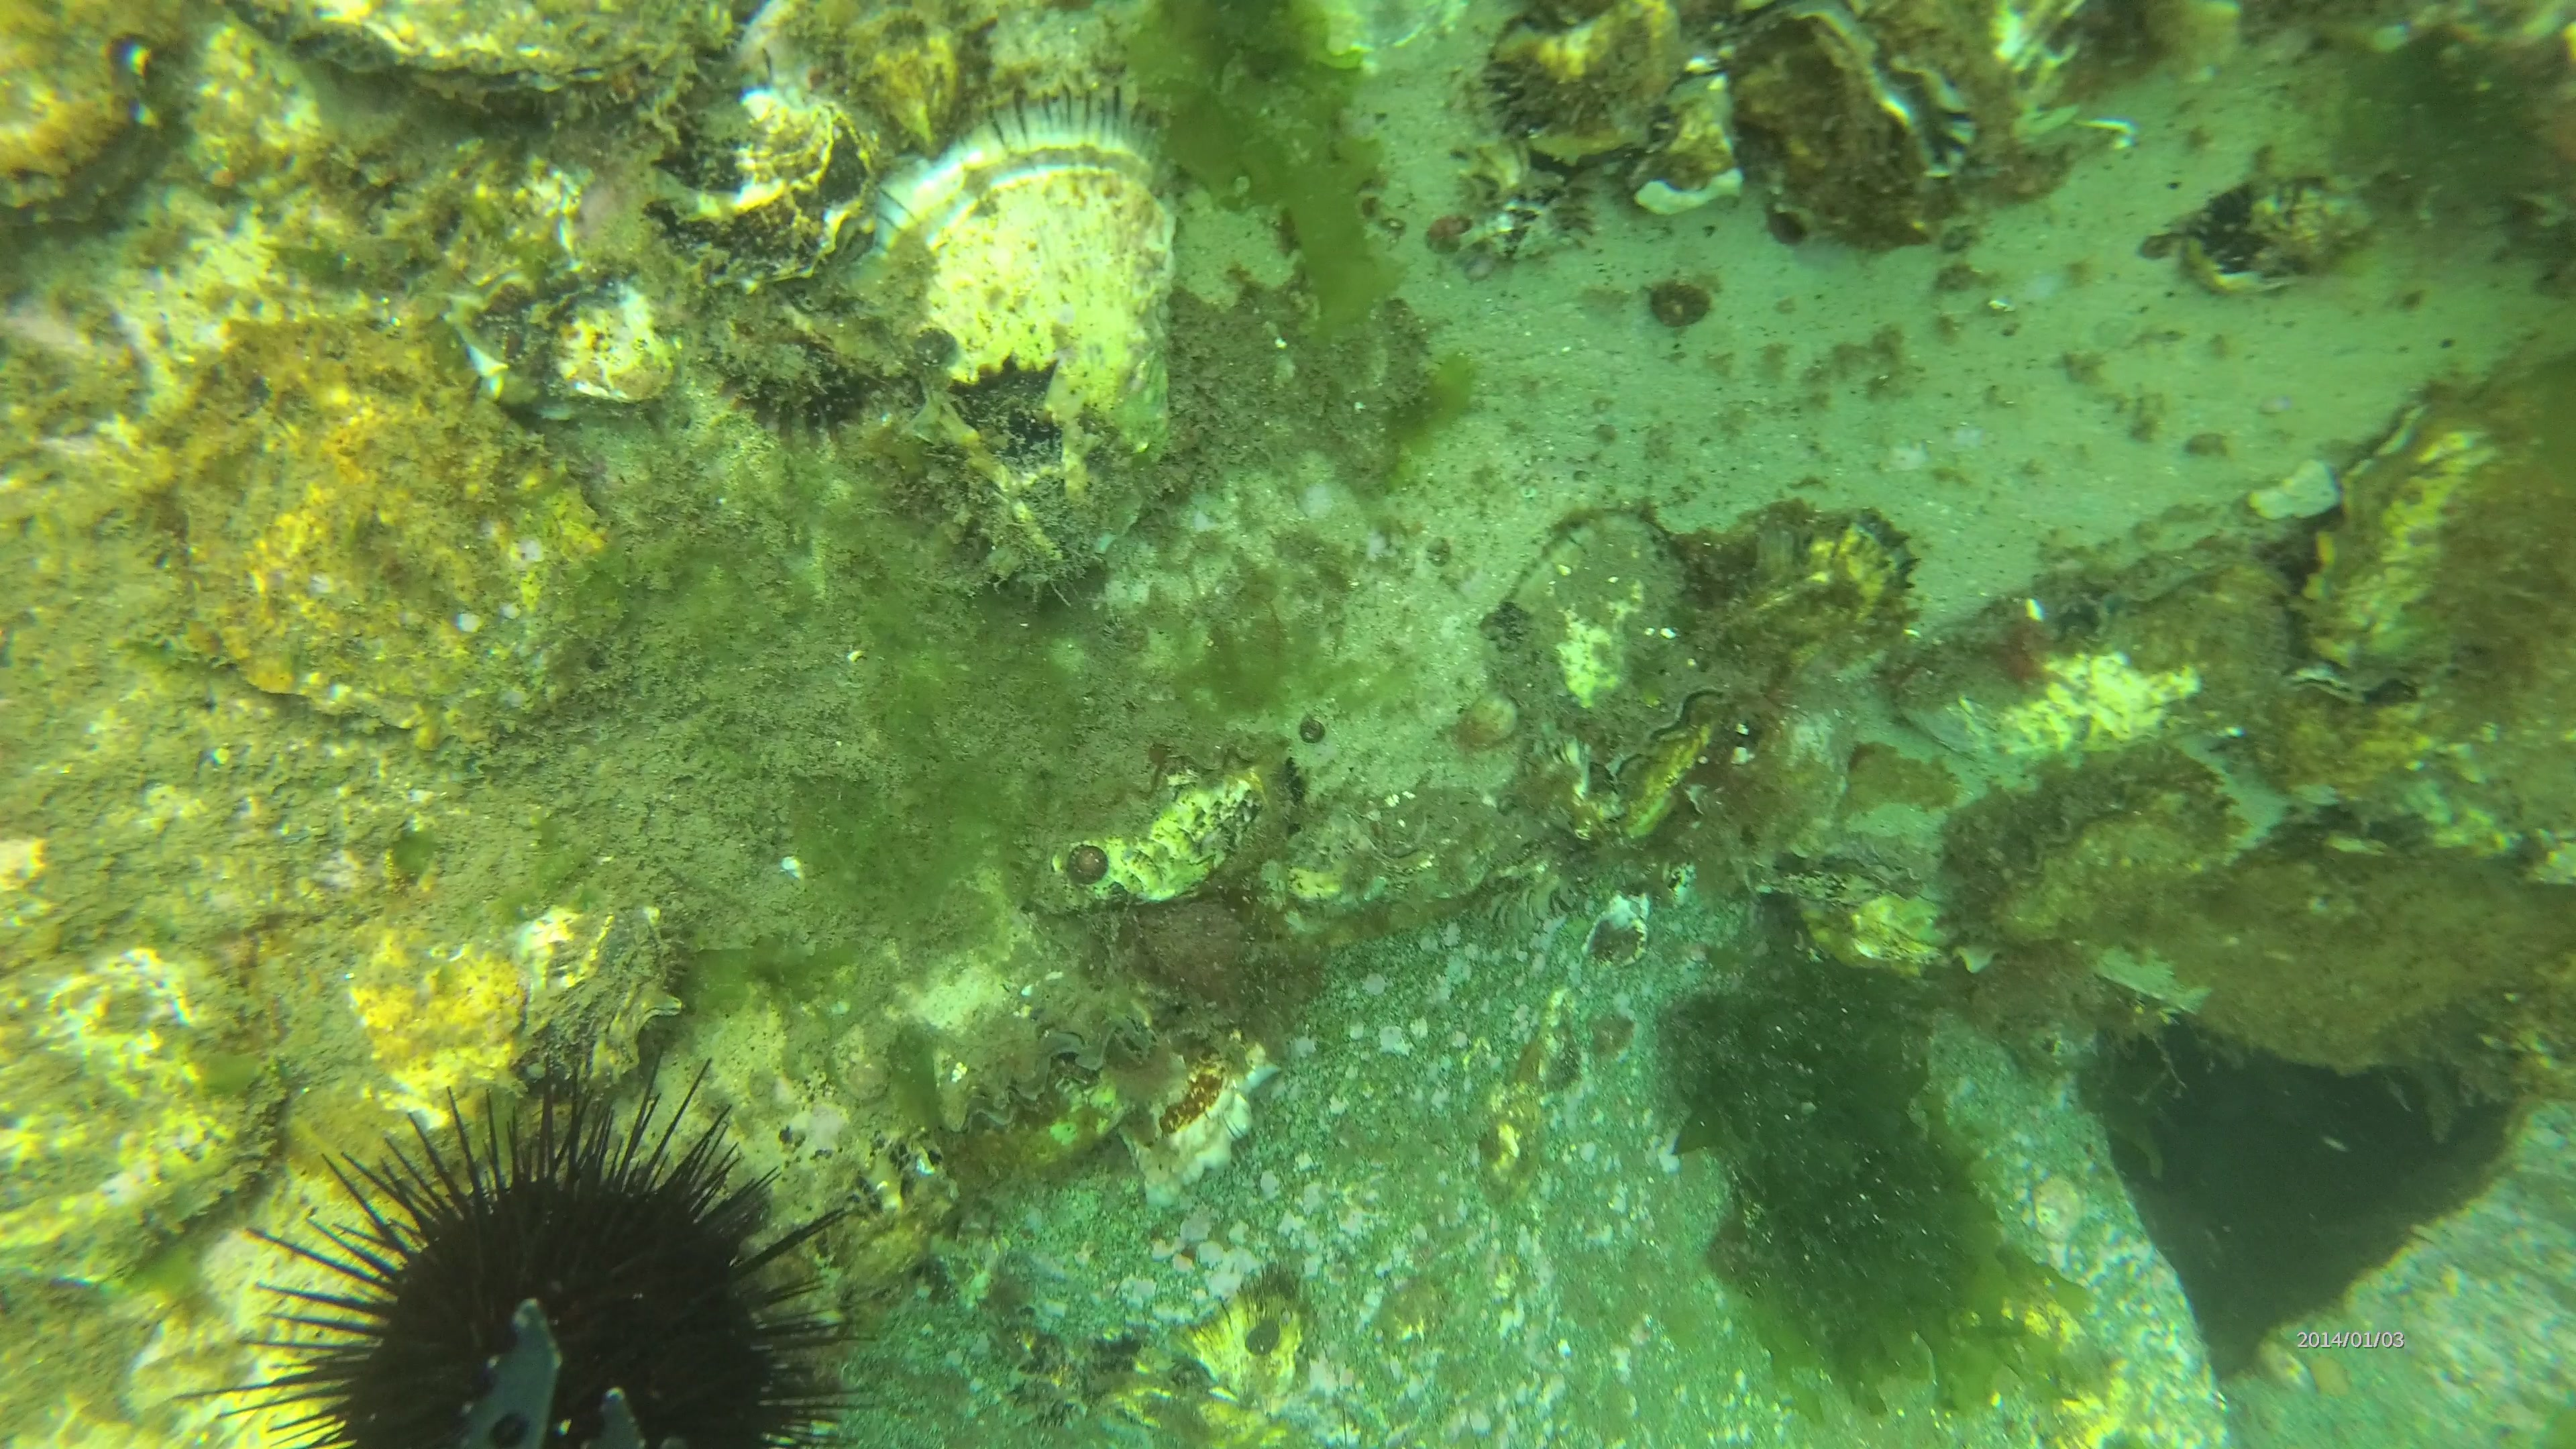echinus: (177, 1060, 906, 1449)
scallop: (812, 78, 1223, 479)
